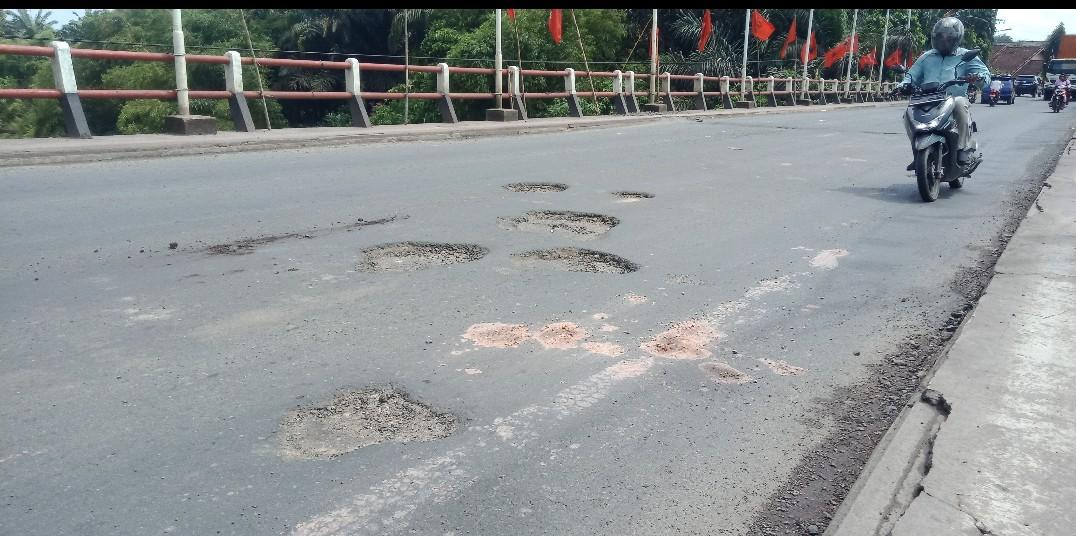Pothole: (136, 201, 458, 263), (489, 144, 672, 251), (282, 371, 473, 471), (521, 227, 667, 289), (351, 239, 495, 284)
